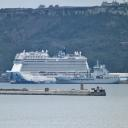cruises: (6, 38, 94, 83)
